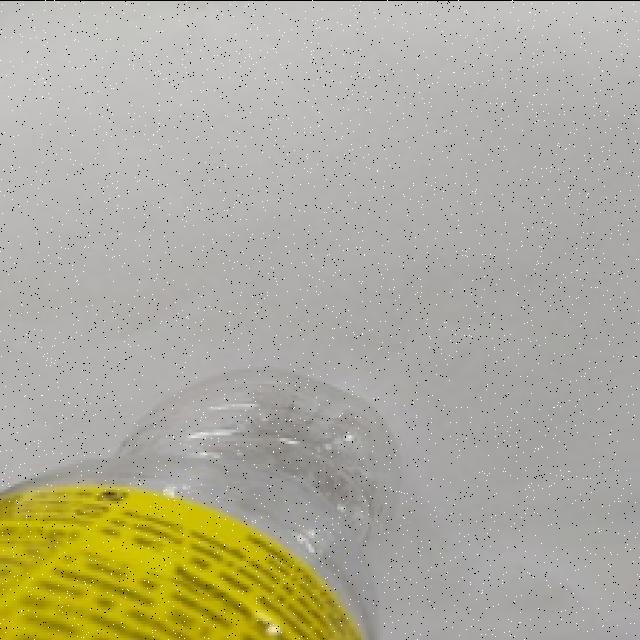plastic: (0, 322, 430, 640)
